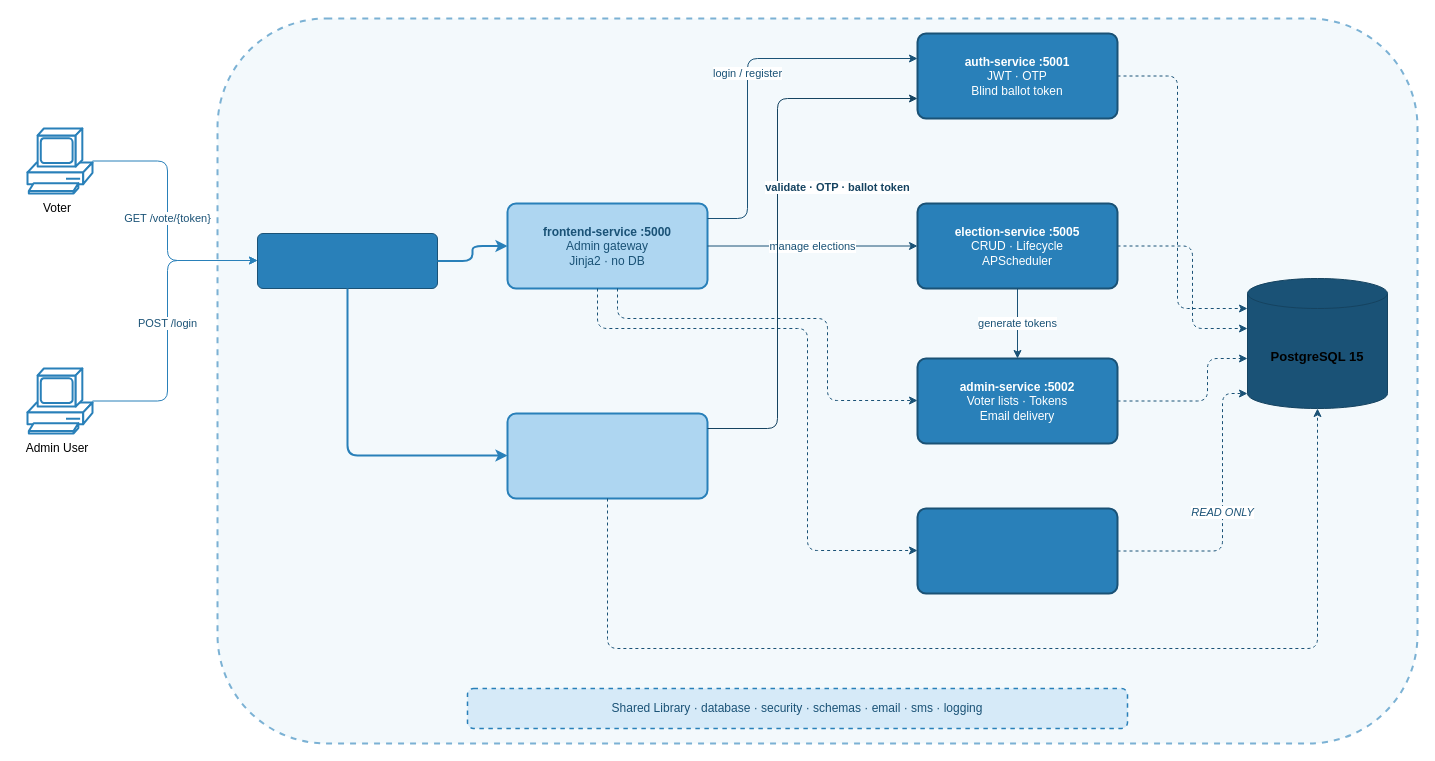
The diagram is 1435 pixels wide and 761 high, and some of its shapes have lost their labels. The shapes that lost their labels are listed below. From the top down, each one's centre as x and y in pixels, then its label:
At (347,260): "NGINX Ingress".
At (607,455): "voting-service :5003 Voter UI Encrypt vote · Receipt".
At (1017,550): "results-service :5004 Read-only results Hash-chain audit".
